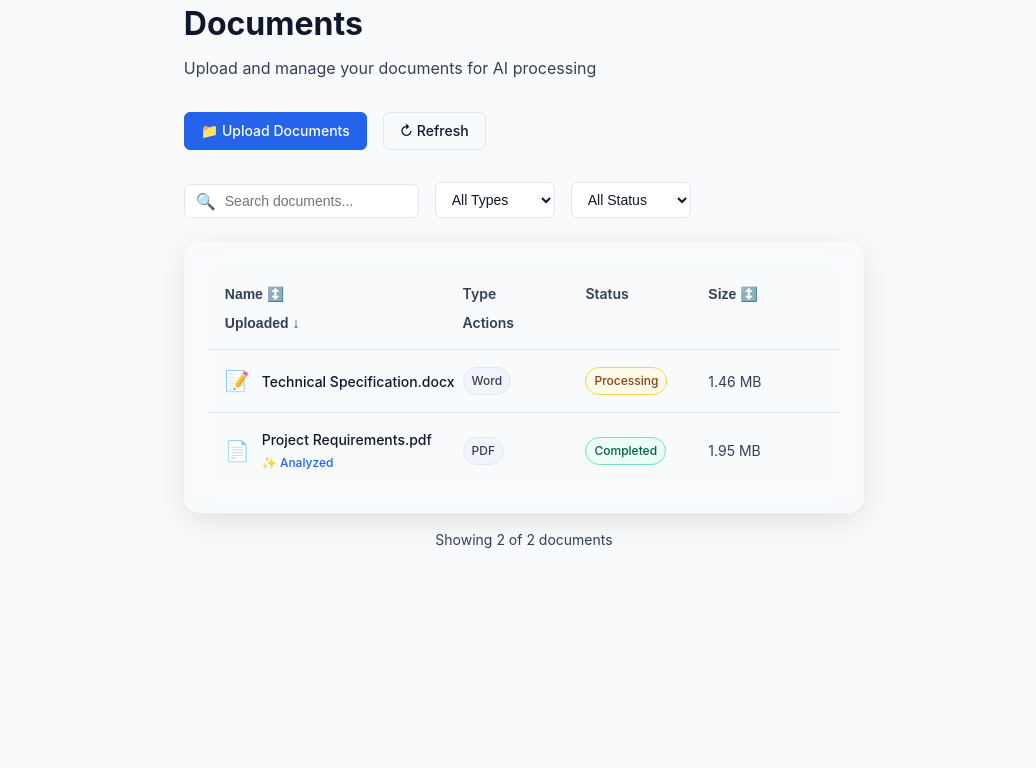
Test: Documents Integration › shows document viewer when document is selected
Click the text "Project Requirements.pdf".
click(493, 450)  # box [225,431,761,470]
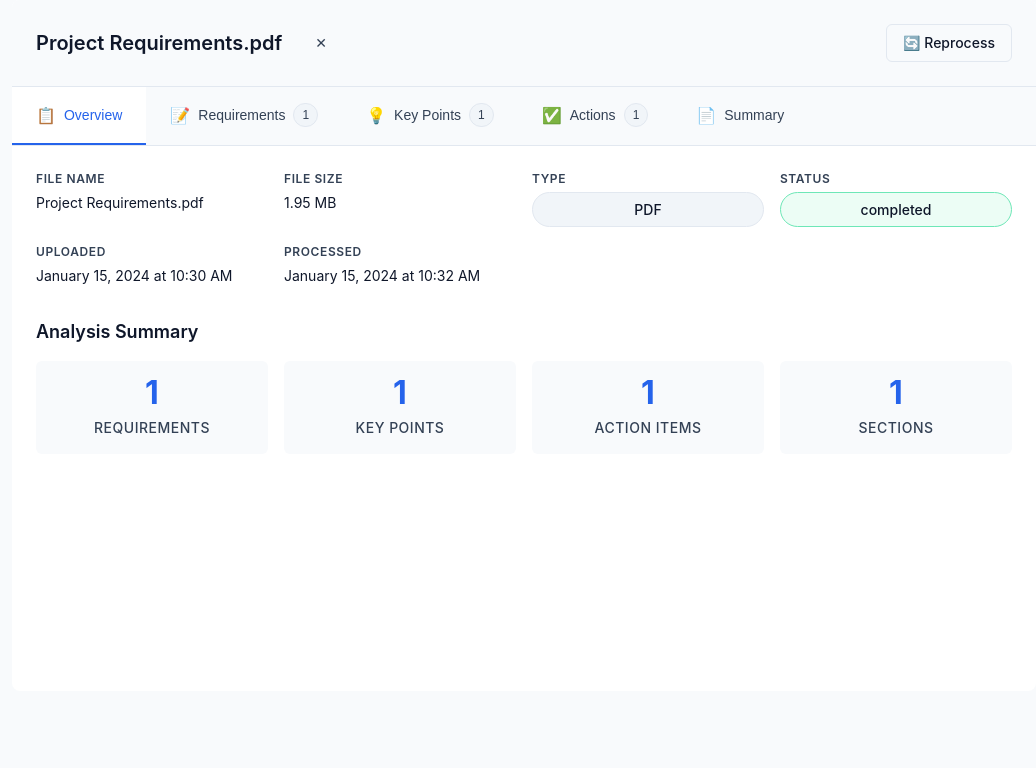
expect the text "Overview" is shown: met, box [64,107,122,123]
expect the 1st text "Requirements" is shown: met, box [198,107,286,123]
expect the 1st text "Key Points" is shown: met, box [394,107,461,123]
